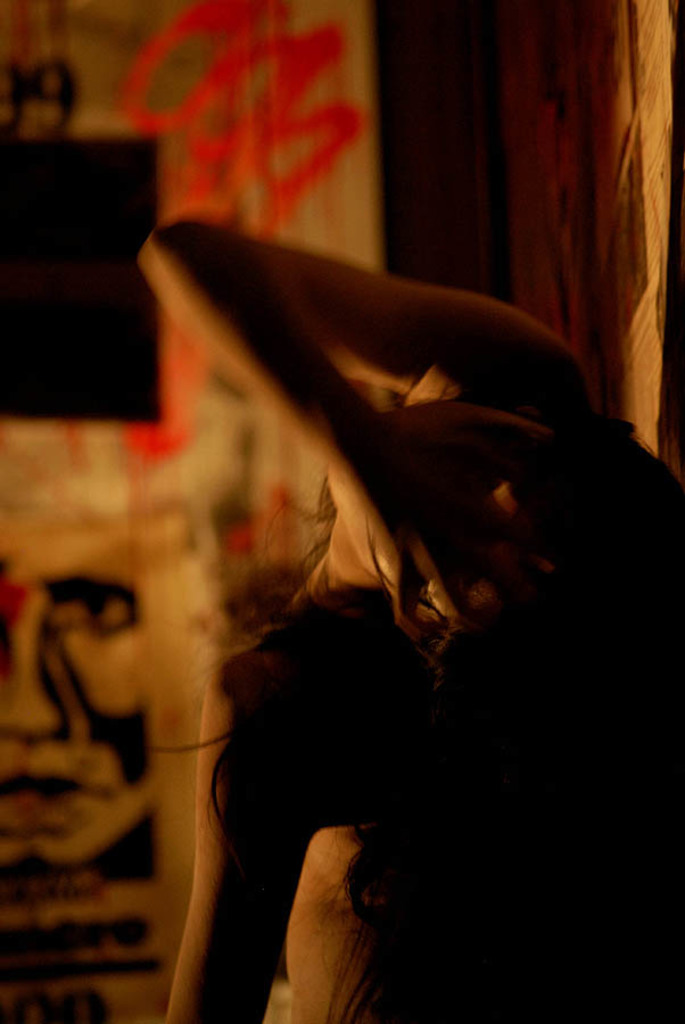Human_hand: (331, 403, 555, 658)
